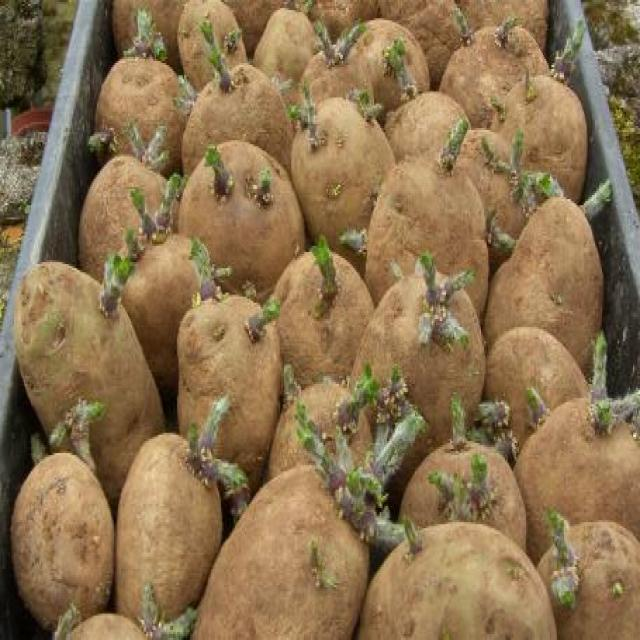Potato: (351, 253, 485, 503), (195, 466, 369, 639), (360, 522, 556, 639), (178, 294, 282, 490), (179, 141, 304, 301), (365, 159, 489, 315), (291, 97, 395, 265)
